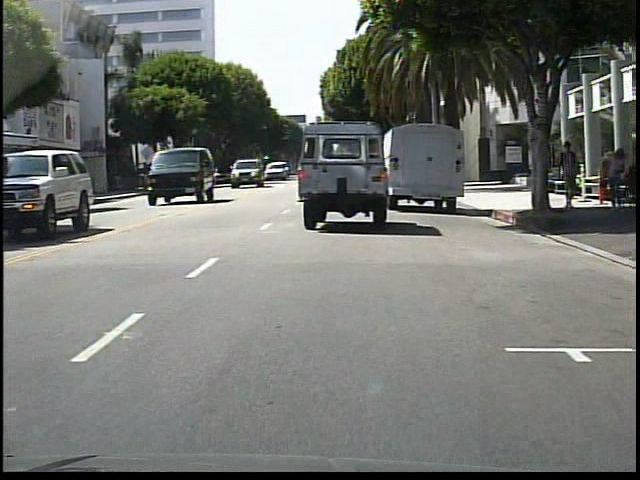person: (559, 140, 583, 212), (606, 148, 626, 212)
